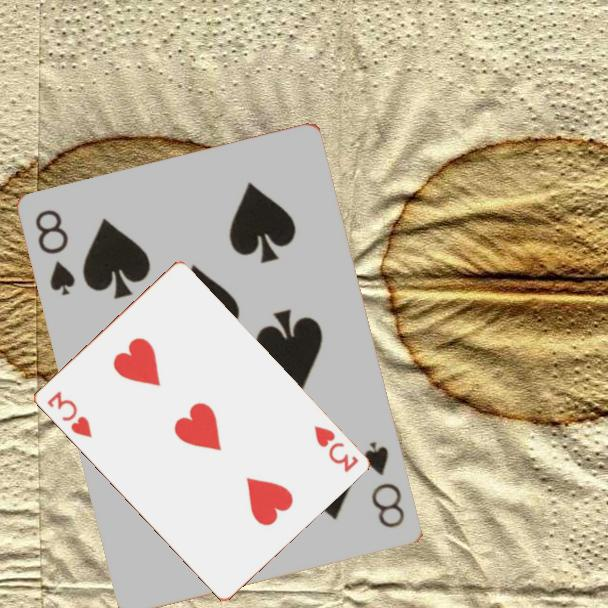h03: (43, 388, 95, 441), (310, 422, 361, 476)
s08: (361, 438, 408, 531), (32, 206, 79, 299)
